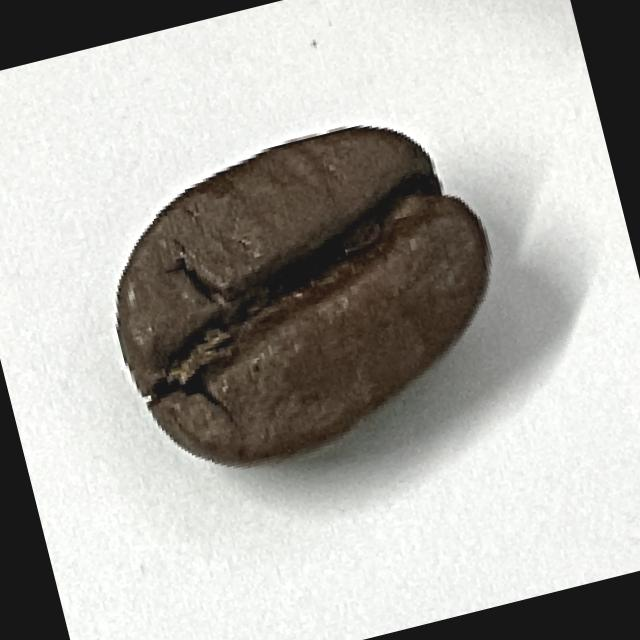bean: (76, 100, 527, 496)
